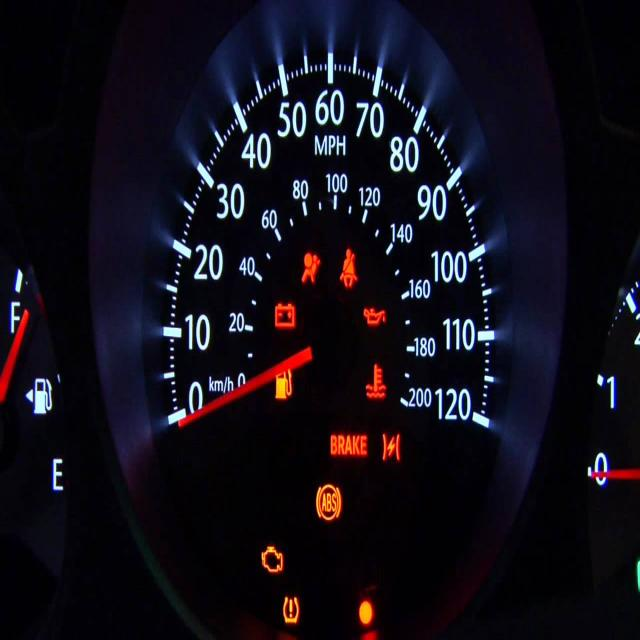Anti Lock Braking System: (315, 482, 343, 522), (365, 363, 387, 401)
Charging System Issue: (273, 301, 297, 331)
Check Engine: (260, 545, 284, 574)
Low Engine Oil Warning Light: (363, 306, 387, 327)
Low Tire Pressure Warning Light: (282, 595, 300, 625)
SRS-Airbag: (300, 250, 322, 285)
